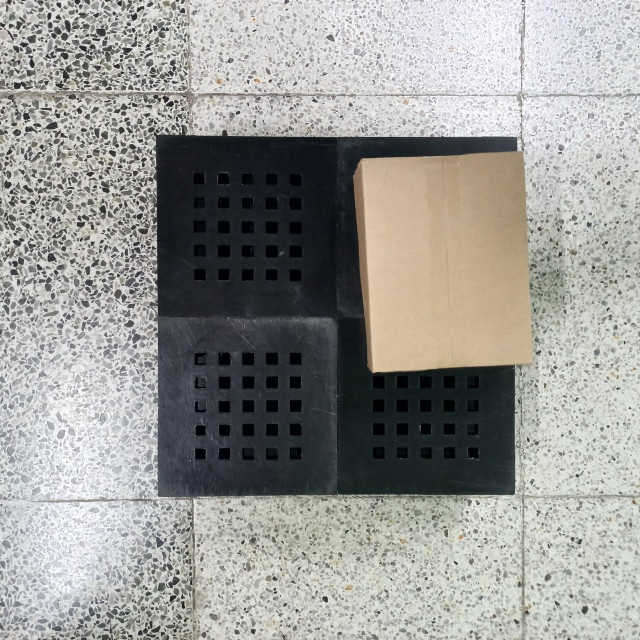box: (355, 147, 534, 375)
pallet: (156, 130, 539, 498)
